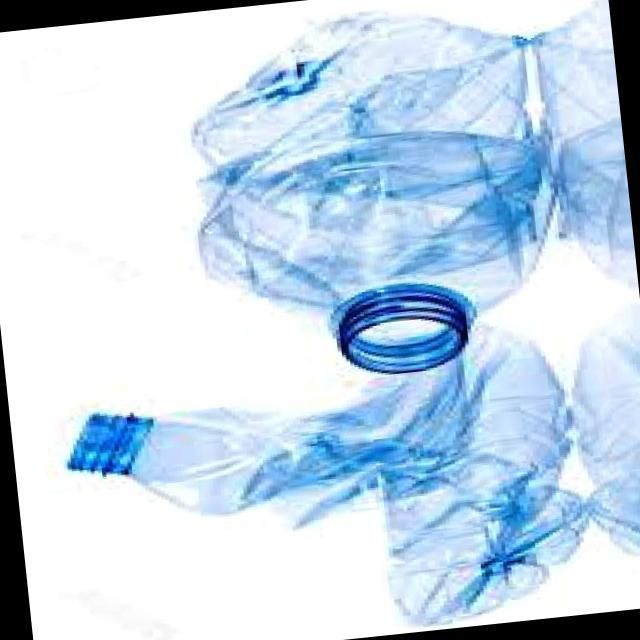defected: (54, 320, 591, 640), (158, 0, 582, 392)
